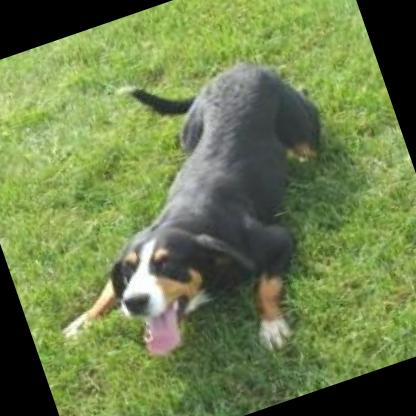EntleBucher: (0, 29, 384, 413)
